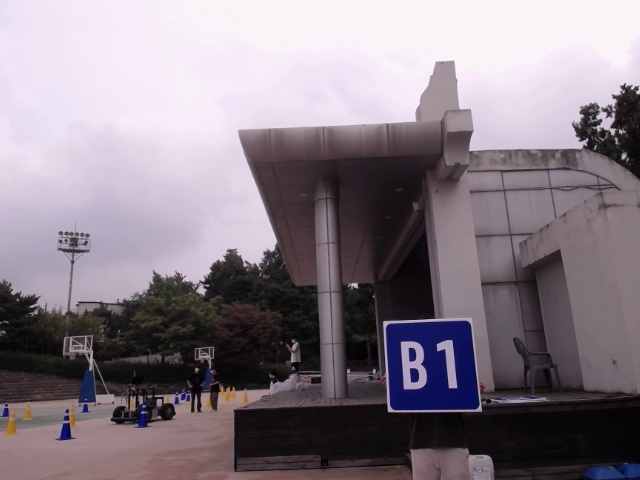delivery_b1: (385, 320, 482, 412)
